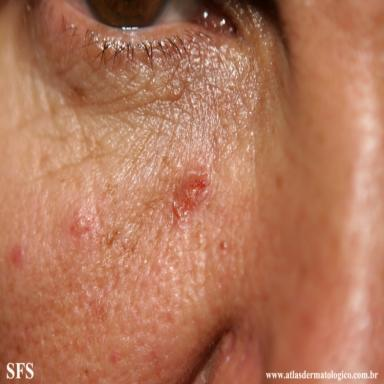basal-cell-carcinoma: (173, 160, 209, 219)
